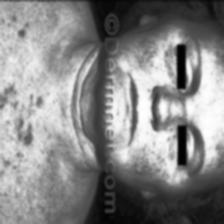Unclassified: (0, 28, 44, 163), (133, 142, 161, 181), (137, 32, 159, 78)
